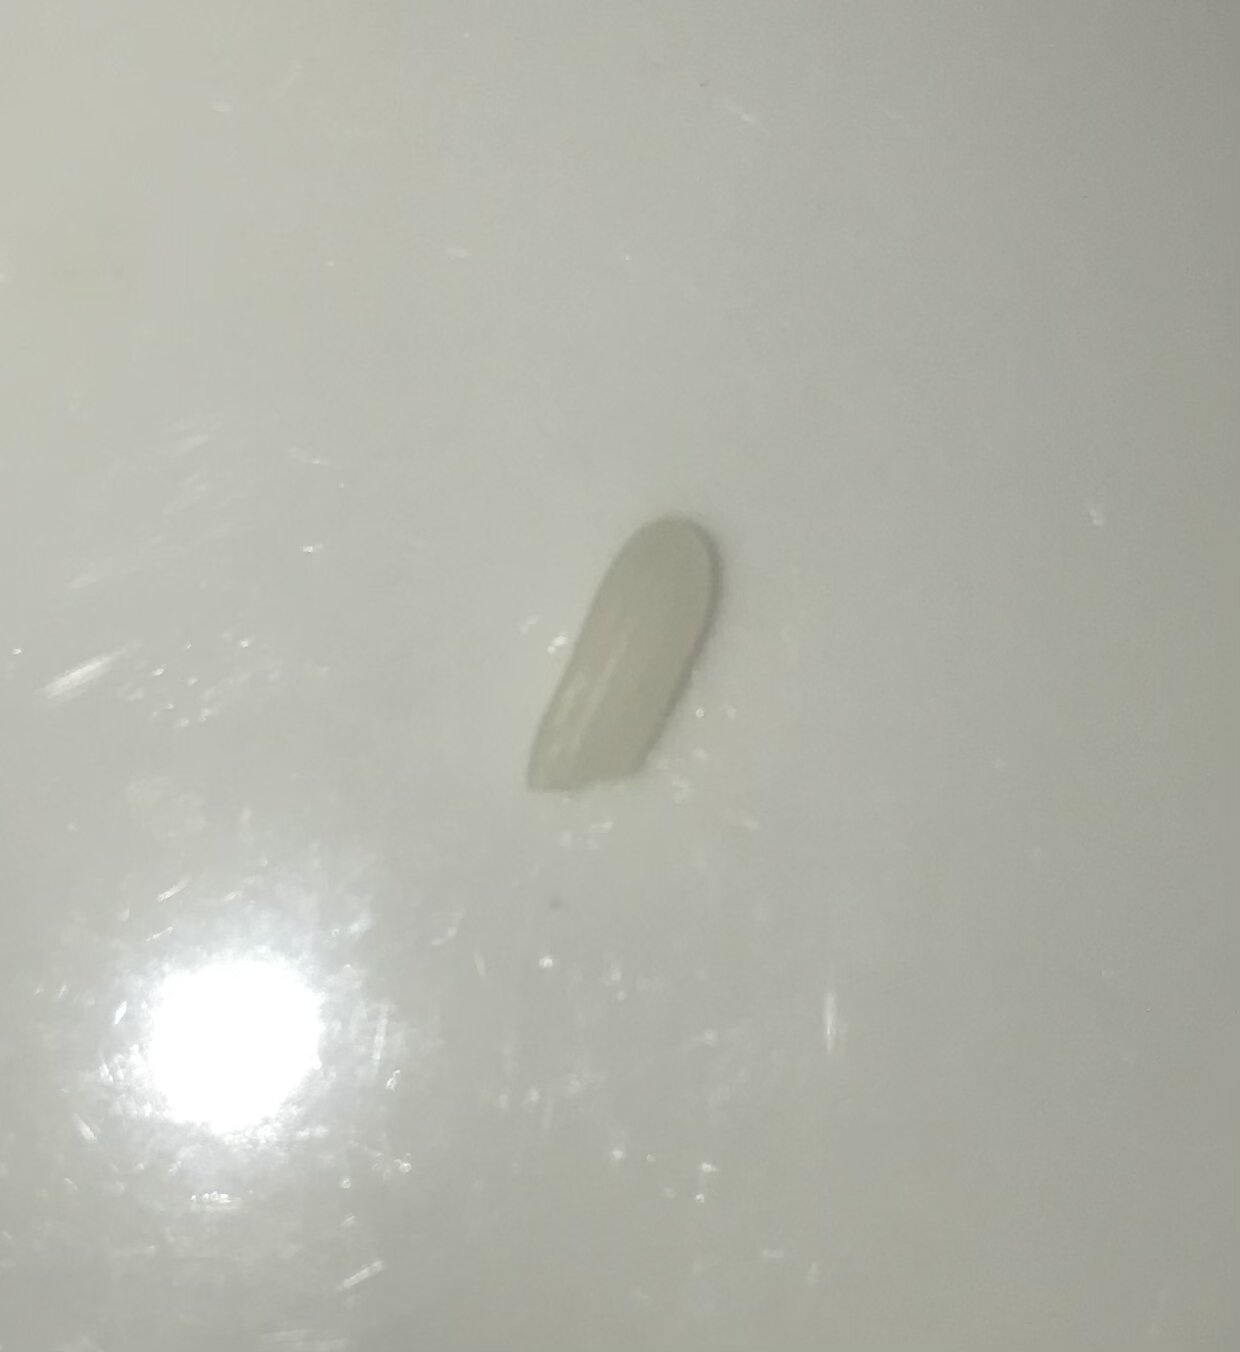Gao Lai Sua: (510, 510, 727, 800)
